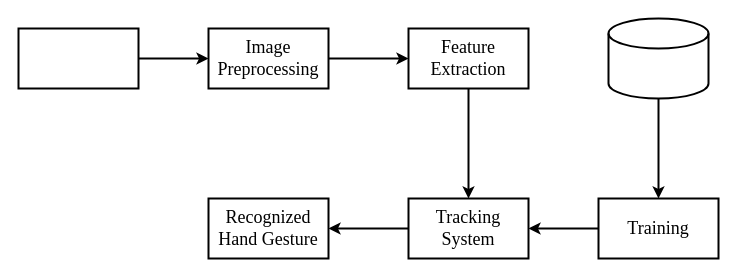
The diagram is 736 pixels wide and 276 high, and some of its shapes have lost their labels. Each missing label, with the centre of its shape:
"Captured Image" belongs at [78,58].
"Dataset" belongs at [658,58].
